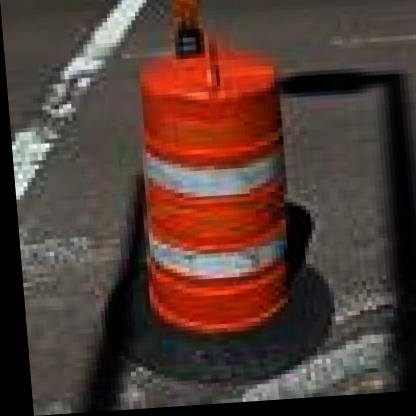obstacle: (129, 48, 293, 347)
